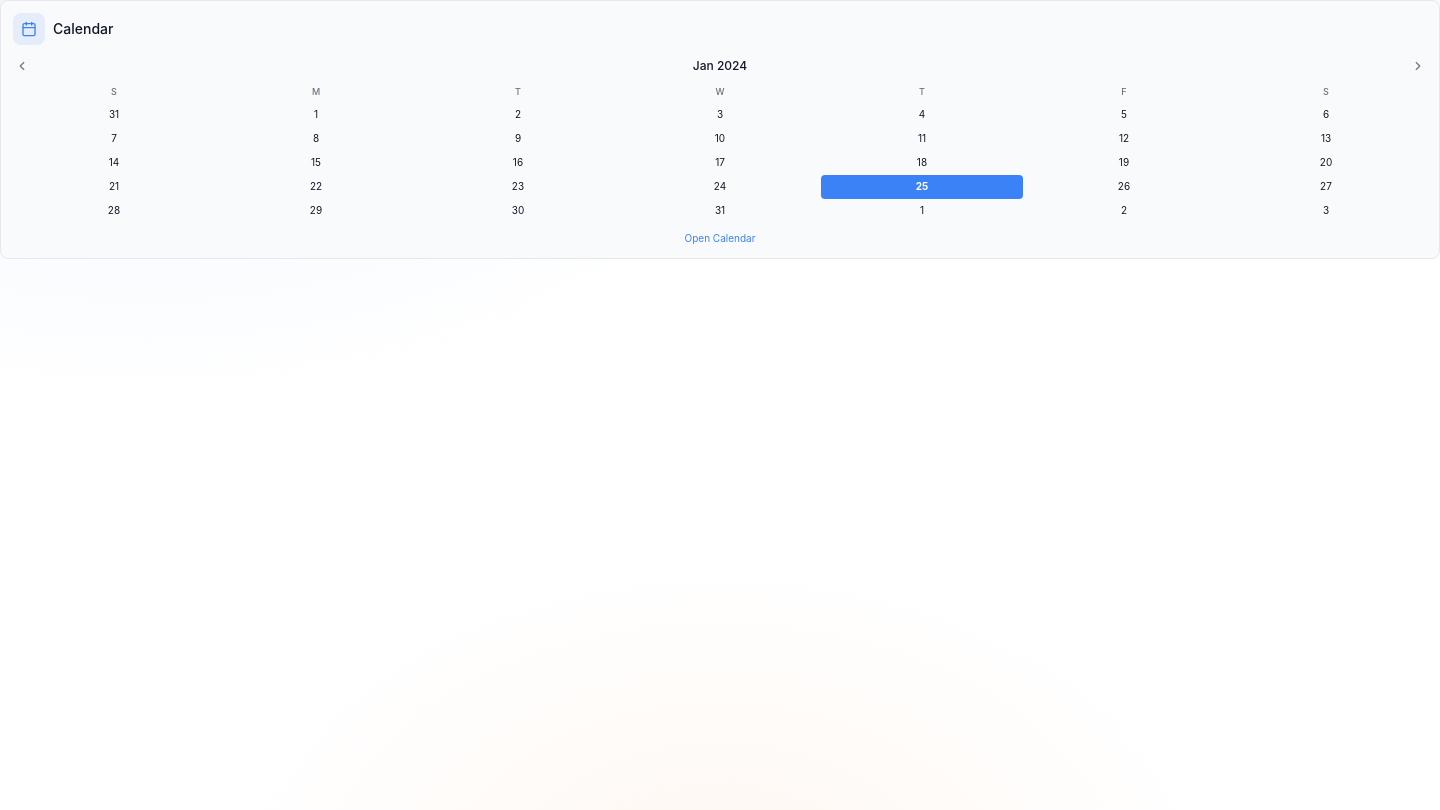
Test case: MiniCalendar › Month Navigation › goes back to current month when clicking month label
Note: Navigate away
Click the 3rd button. click: (1418, 66)
box: [1409,57,1427,75]
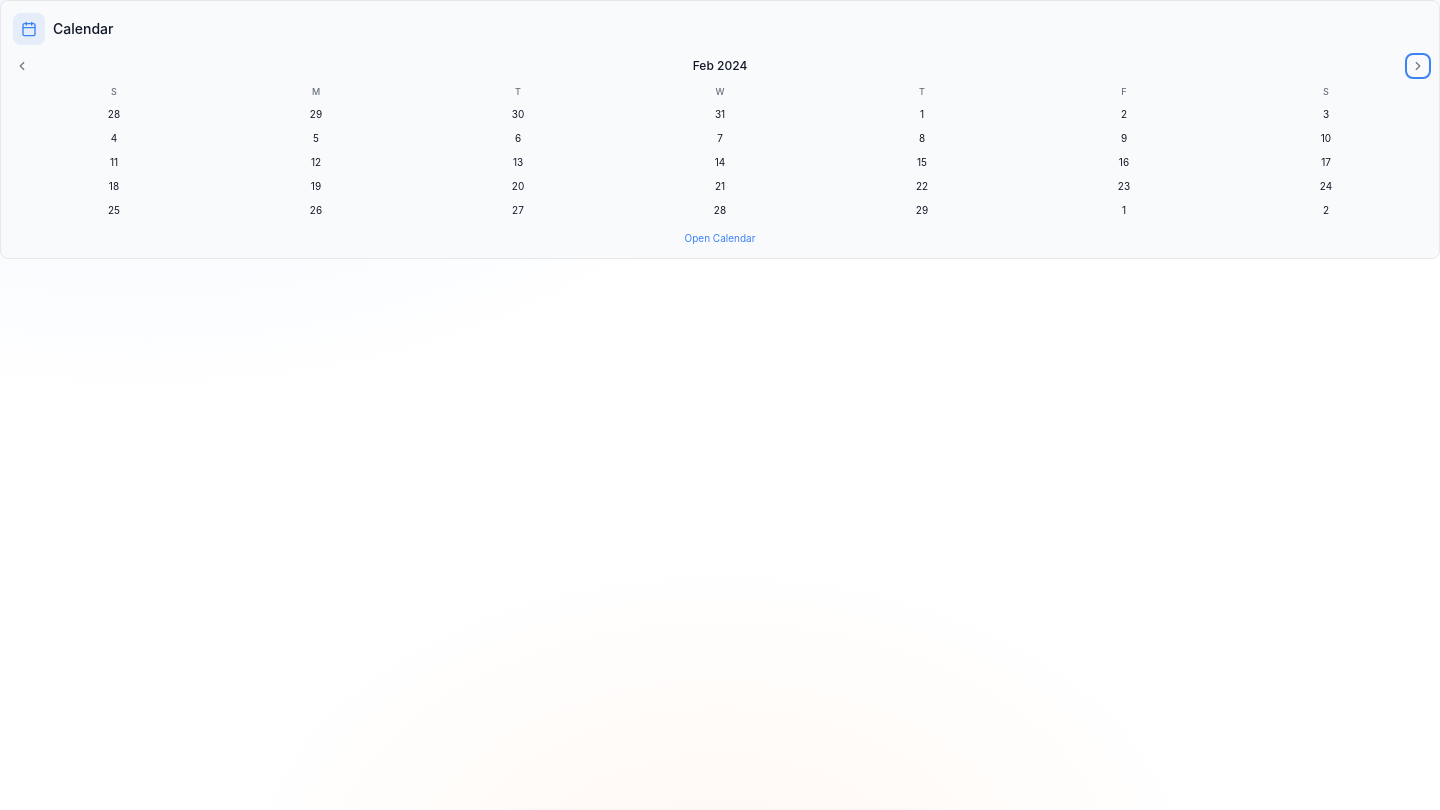
Now the button "Feb 2024" is shown
Note: Click month label to go back to today
Click the button "Feb 2024". click: (720, 66)
box: [693,58,747,74]
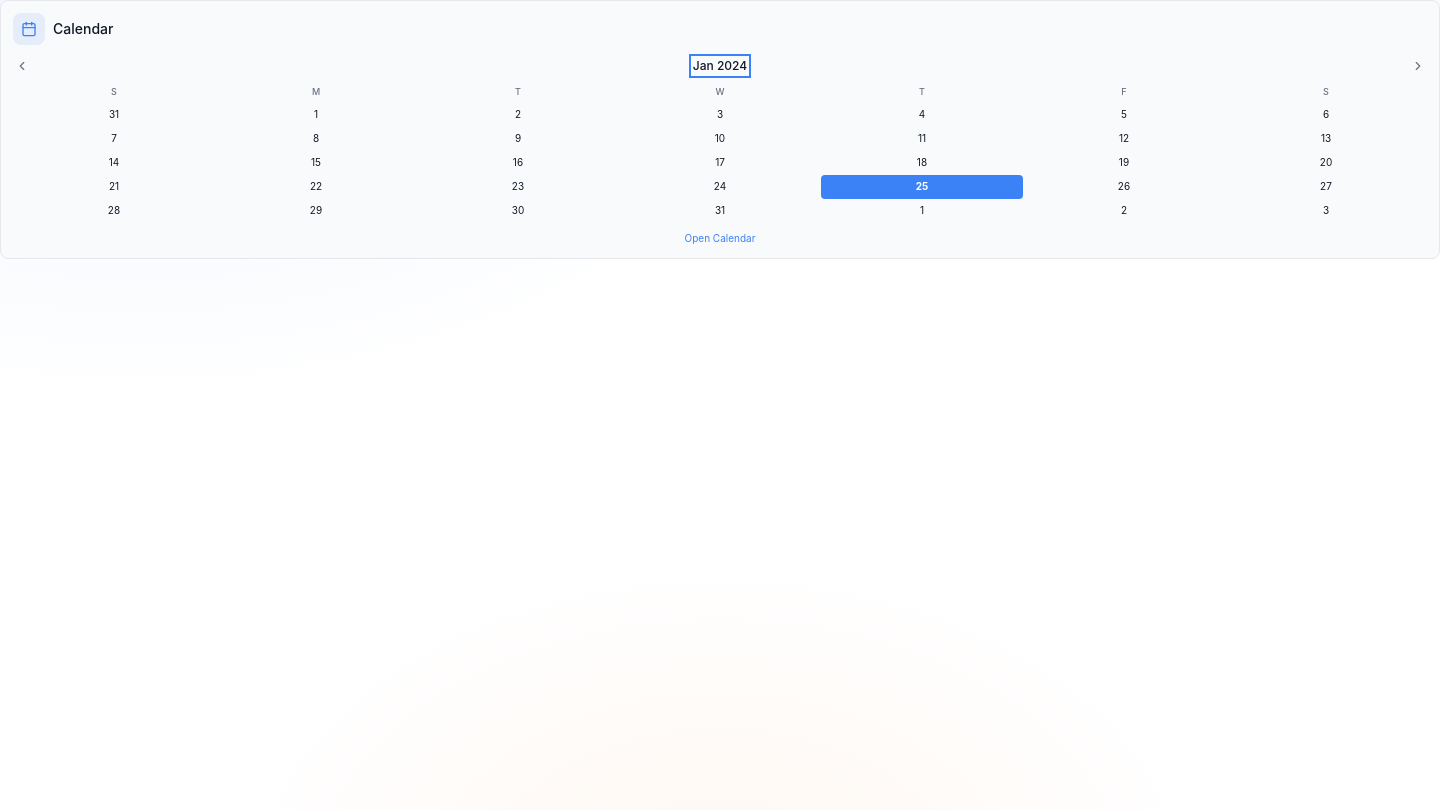
Now the button "Jan 2024" is shown, box [693,58,747,74]
